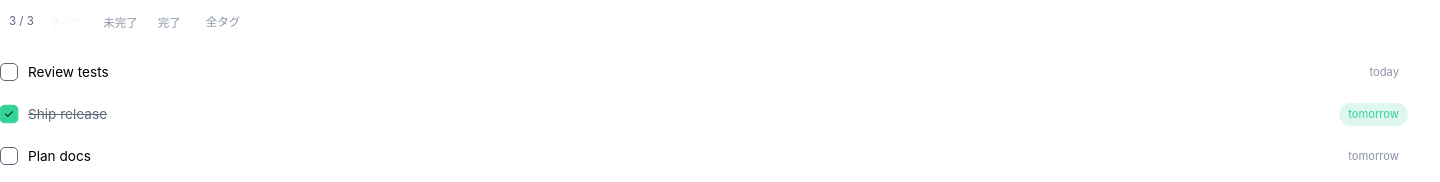
TodoListView › filters todos by tag
Select "today" in the dropdown: (814, 22) [197,10,1431,34]
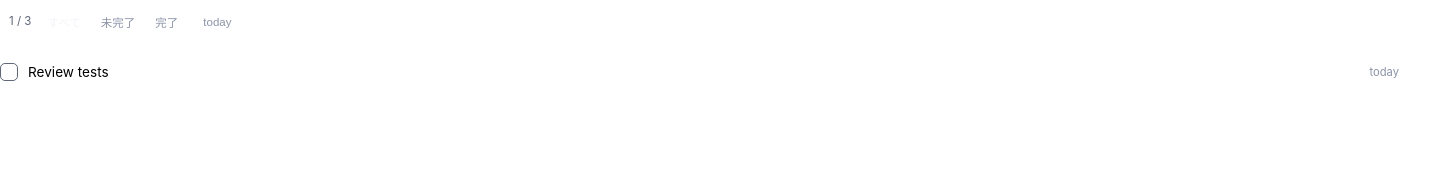
Result: the text "1 / 3" is shown at [9,13,32,31]
Result: the text "Ship release" is gone
Result: the text "Plan docs" is gone
